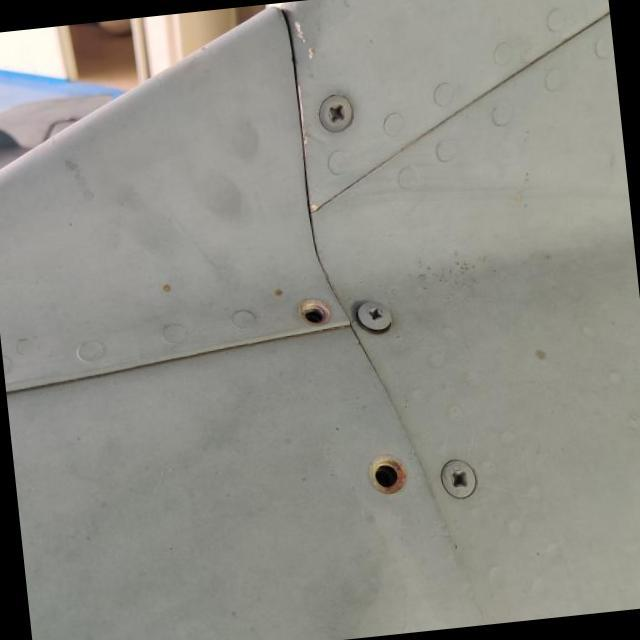Fastener Damage: (340, 436, 432, 523), (278, 276, 350, 346)
